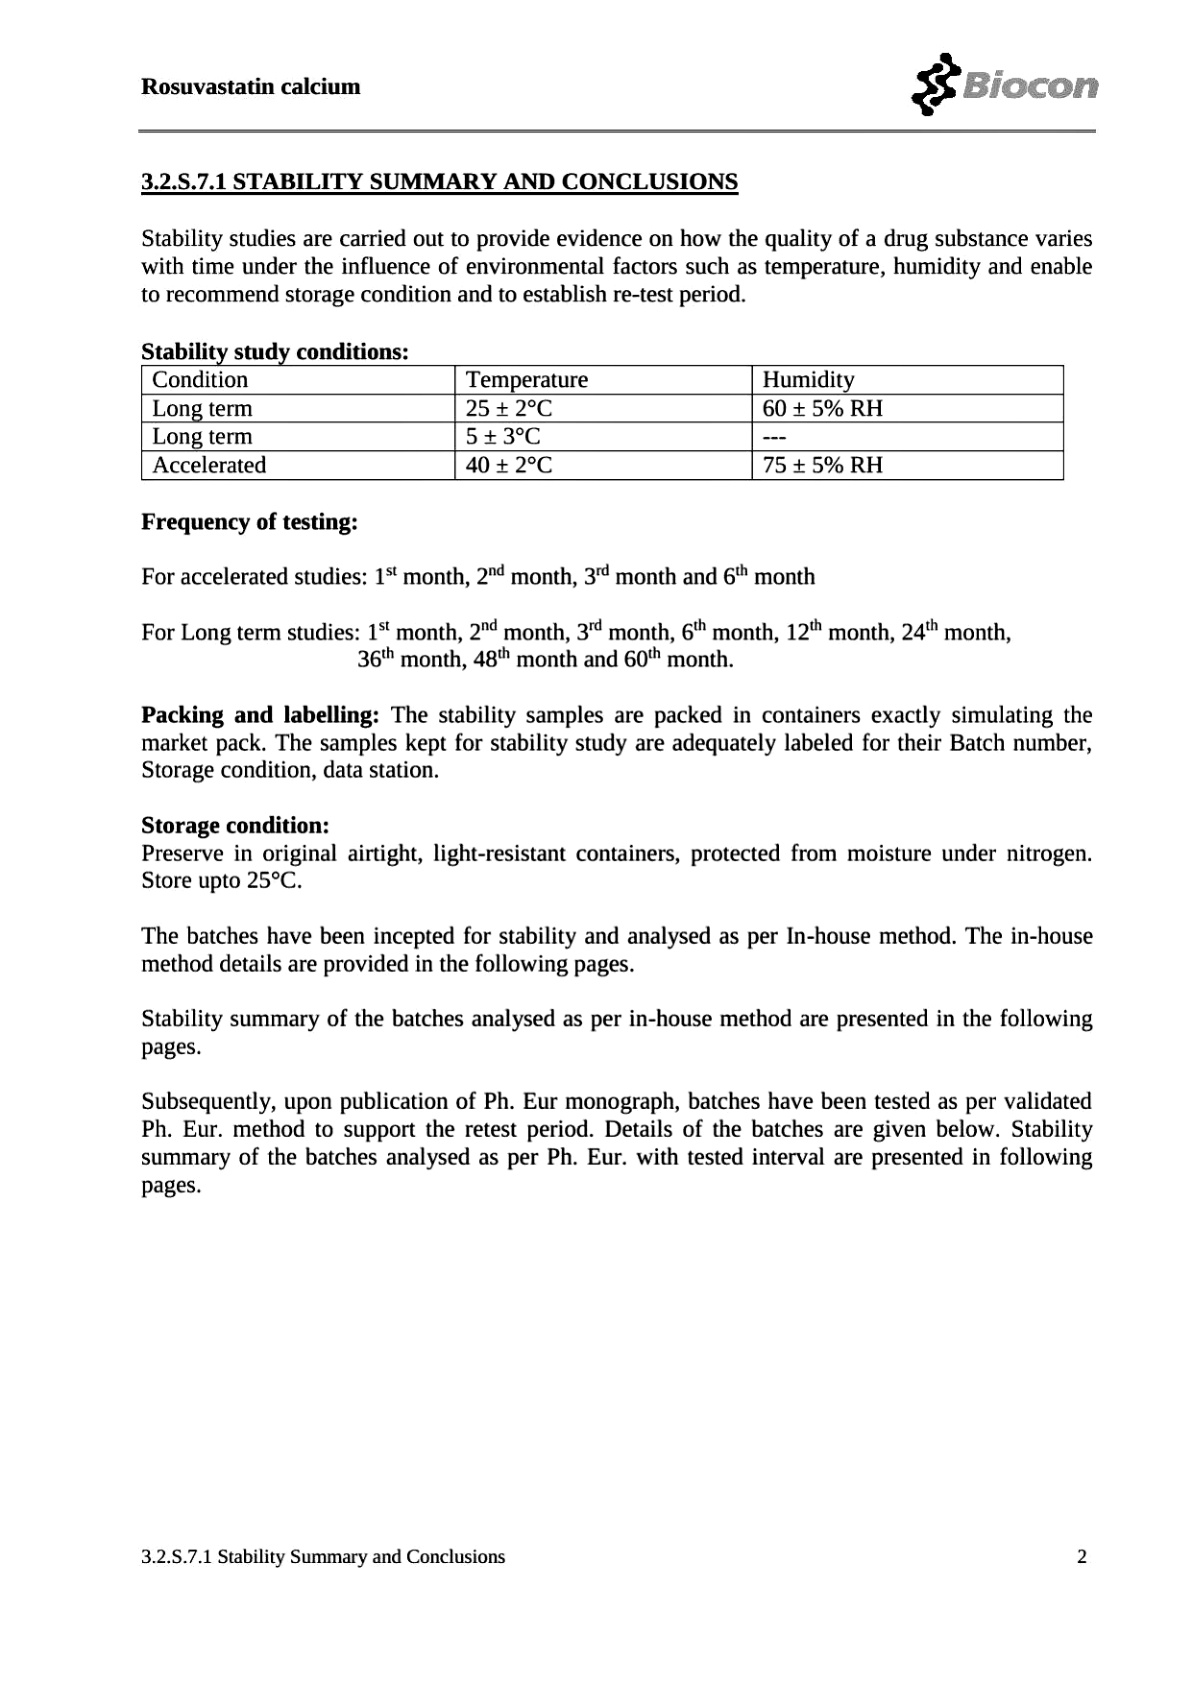full_lined: (139, 364, 1065, 482)
